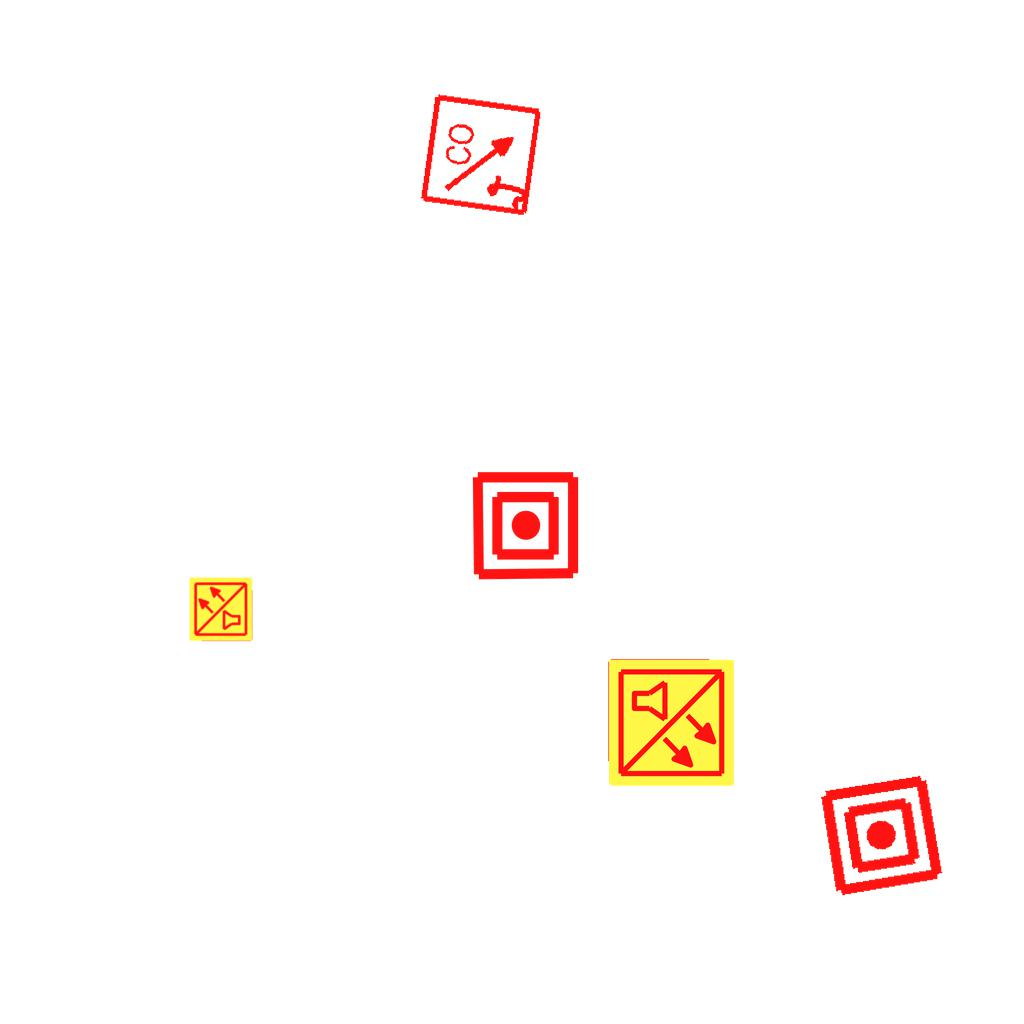NAM-Nichtautomatischer_Melder: (816, 770, 947, 901), (469, 469, 582, 582)
OKW_Multisensormelder_(Kombination_optischer_Rauch-Kahlenmonoxid_Waerme-Melder): (605, 657, 737, 789), (188, 576, 254, 642)
ROA_Rauchmelder_optisch_mit_Signalgeber_(Sockelsirene): (418, 90, 547, 219)
